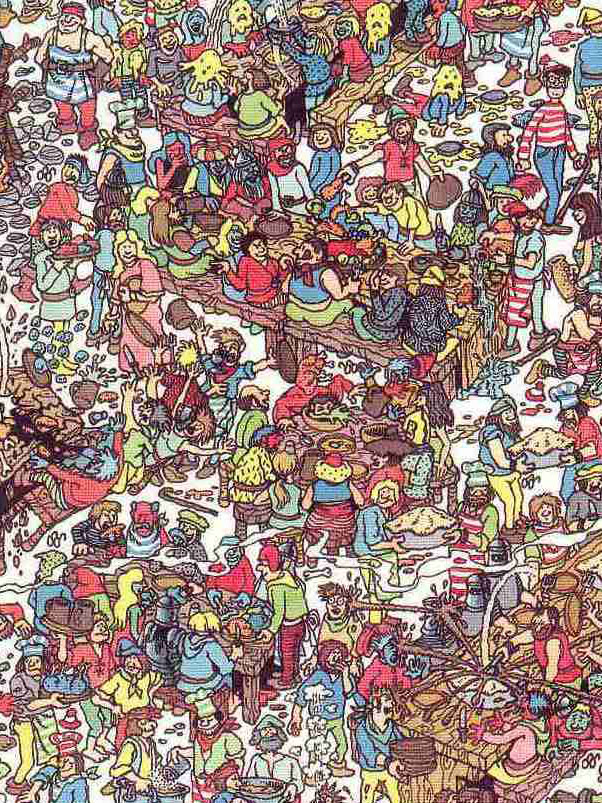waldo: (542, 54, 571, 103)
